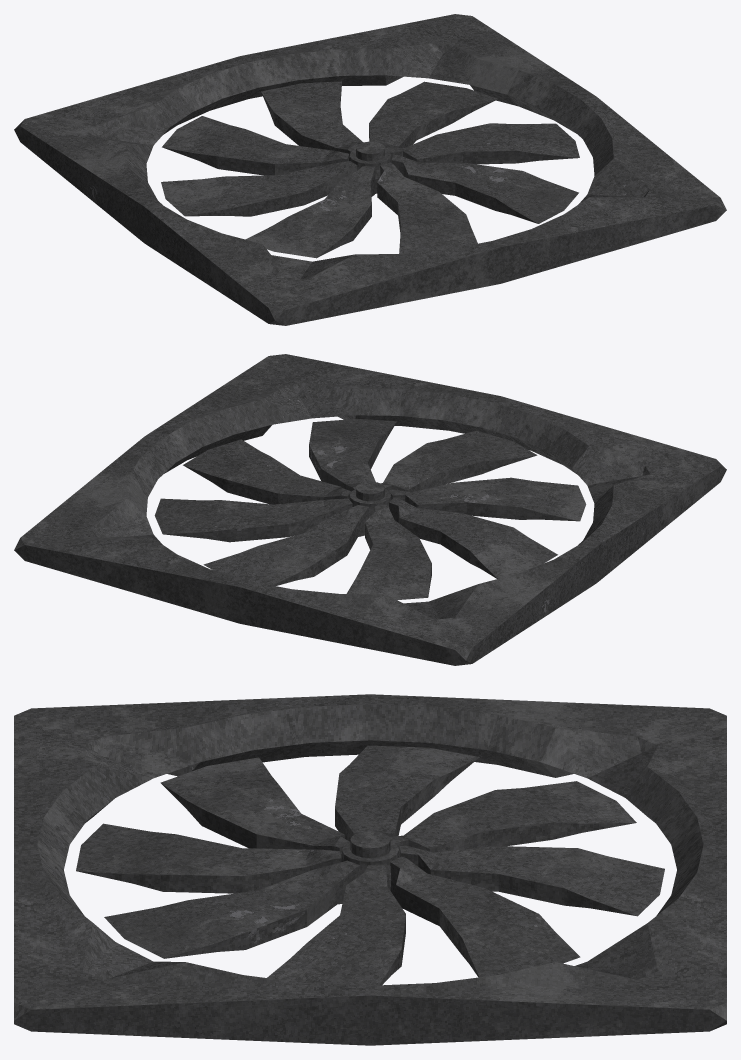
Rendered from GiantFan_20m.gltf.
The picture shows the model from 3 angles, top to bottom: view 1: azimuth 30°, elevation 25°; view 2: azimuth 150°, elevation 25°; view 3: azimuth 270°, elevation 25°; orthographic projection. The views are drawn at different scales.
Parts seen in each view (by area): view 1: Fitting, Blades, Center; view 2: Fitting, Blades, Center; view 3: Fitting, Blades, Center.
Boxes of the visible parts, x1,y1,x2,y2 form: Fitting: [14, 14, 726, 325]; Blades: [161, 81, 579, 258]; Center: [349, 141, 391, 193]; Fitting: [14, 354, 726, 665]; Blades: [154, 418, 586, 599]; Center: [349, 481, 391, 517]; Fitting: [14, 694, 726, 1045]; Blades: [76, 745, 664, 985]; Center: [341, 831, 399, 890].
Bounding box in the file's own units: 20 × 1.71 × 20.
Materials: 1 (1 with a texture image).
